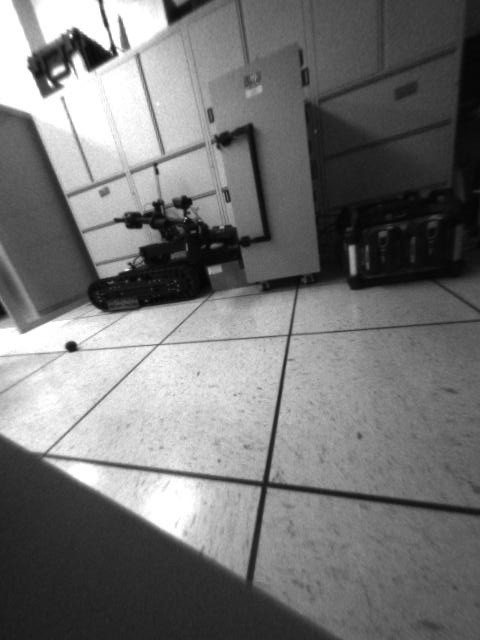dogtoy: (61, 333, 87, 359)
